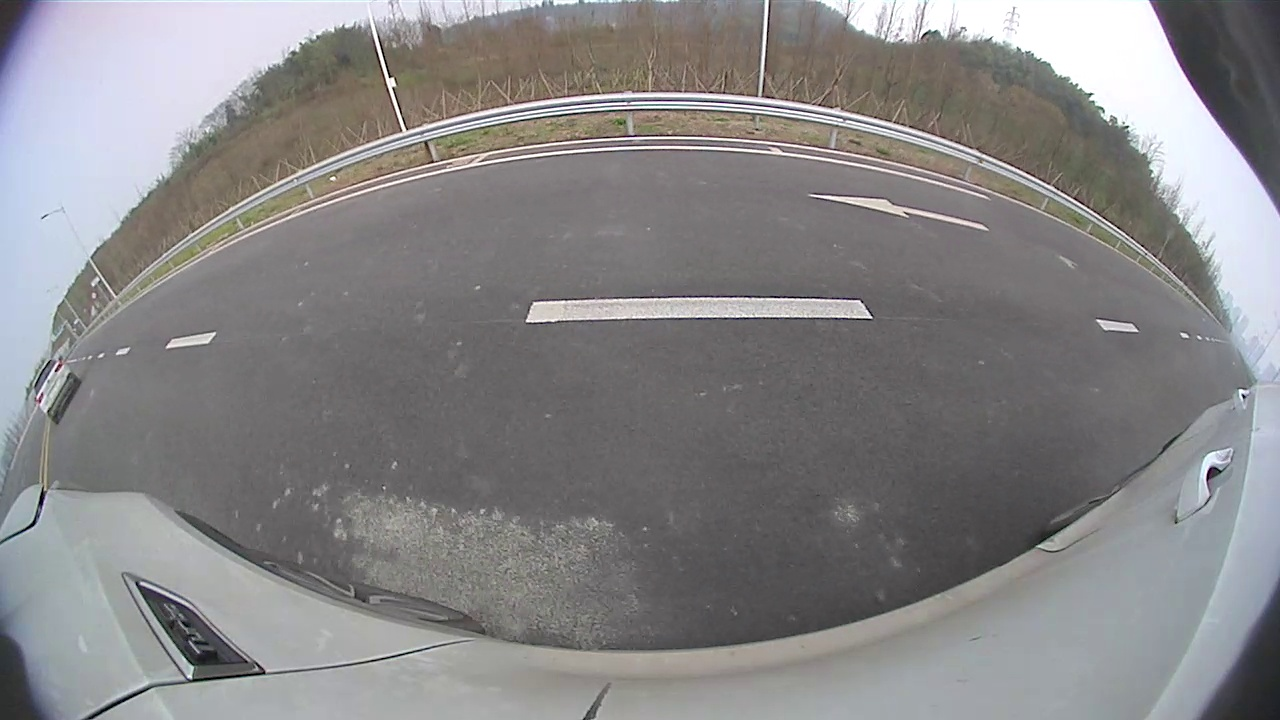car: (32, 359, 83, 426)
